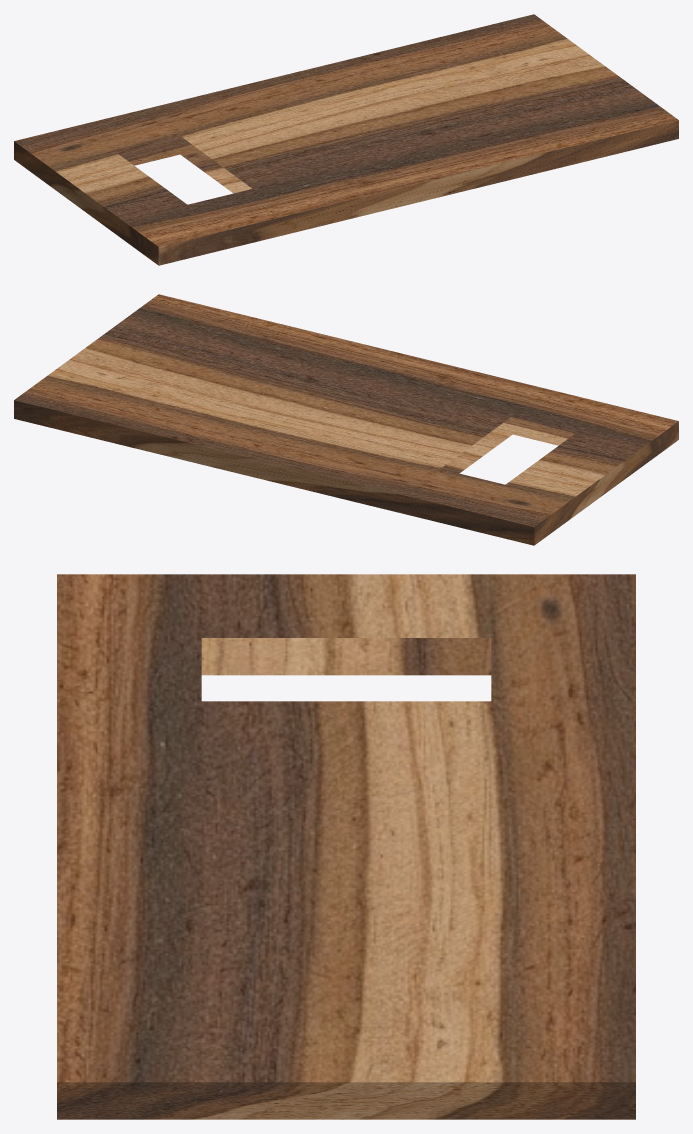
File: Talenan.fbx
3 renders of one model, top to bottom at view 1: azimuth 30°, elevation 25°; view 2: azimuth 150°, elevation 25°; view 3: azimuth 270°, elevation 25°, orthographic. The views are drawn at different scales.
Visible parts, largest first — view 1: Cube; view 2: Cube; view 3: Cube.
Part boxes in pixels (x1,y1,x2,y2): Cube: [14, 14, 678, 265]; Cube: [14, 294, 678, 545]; Cube: [57, 574, 635, 1119].
Bounding box in the file's own units: 330 × 11.3 × 159.
